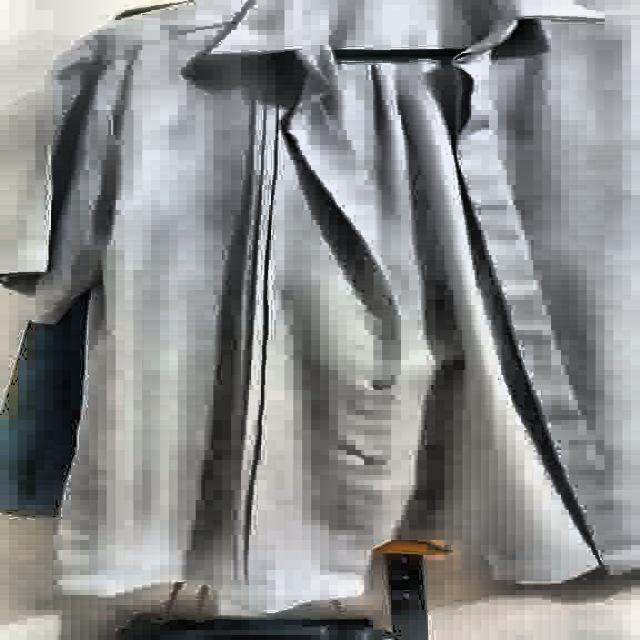clothes: (4, 0, 640, 611)
